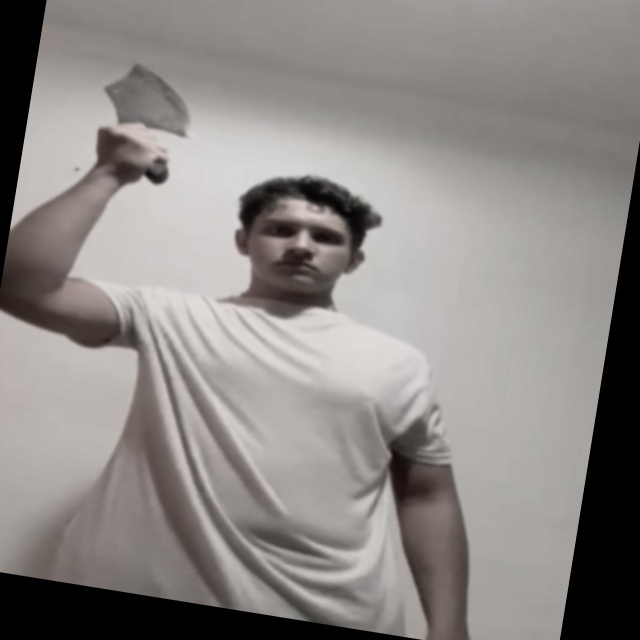Sharp-Object: (94, 59, 195, 135)
